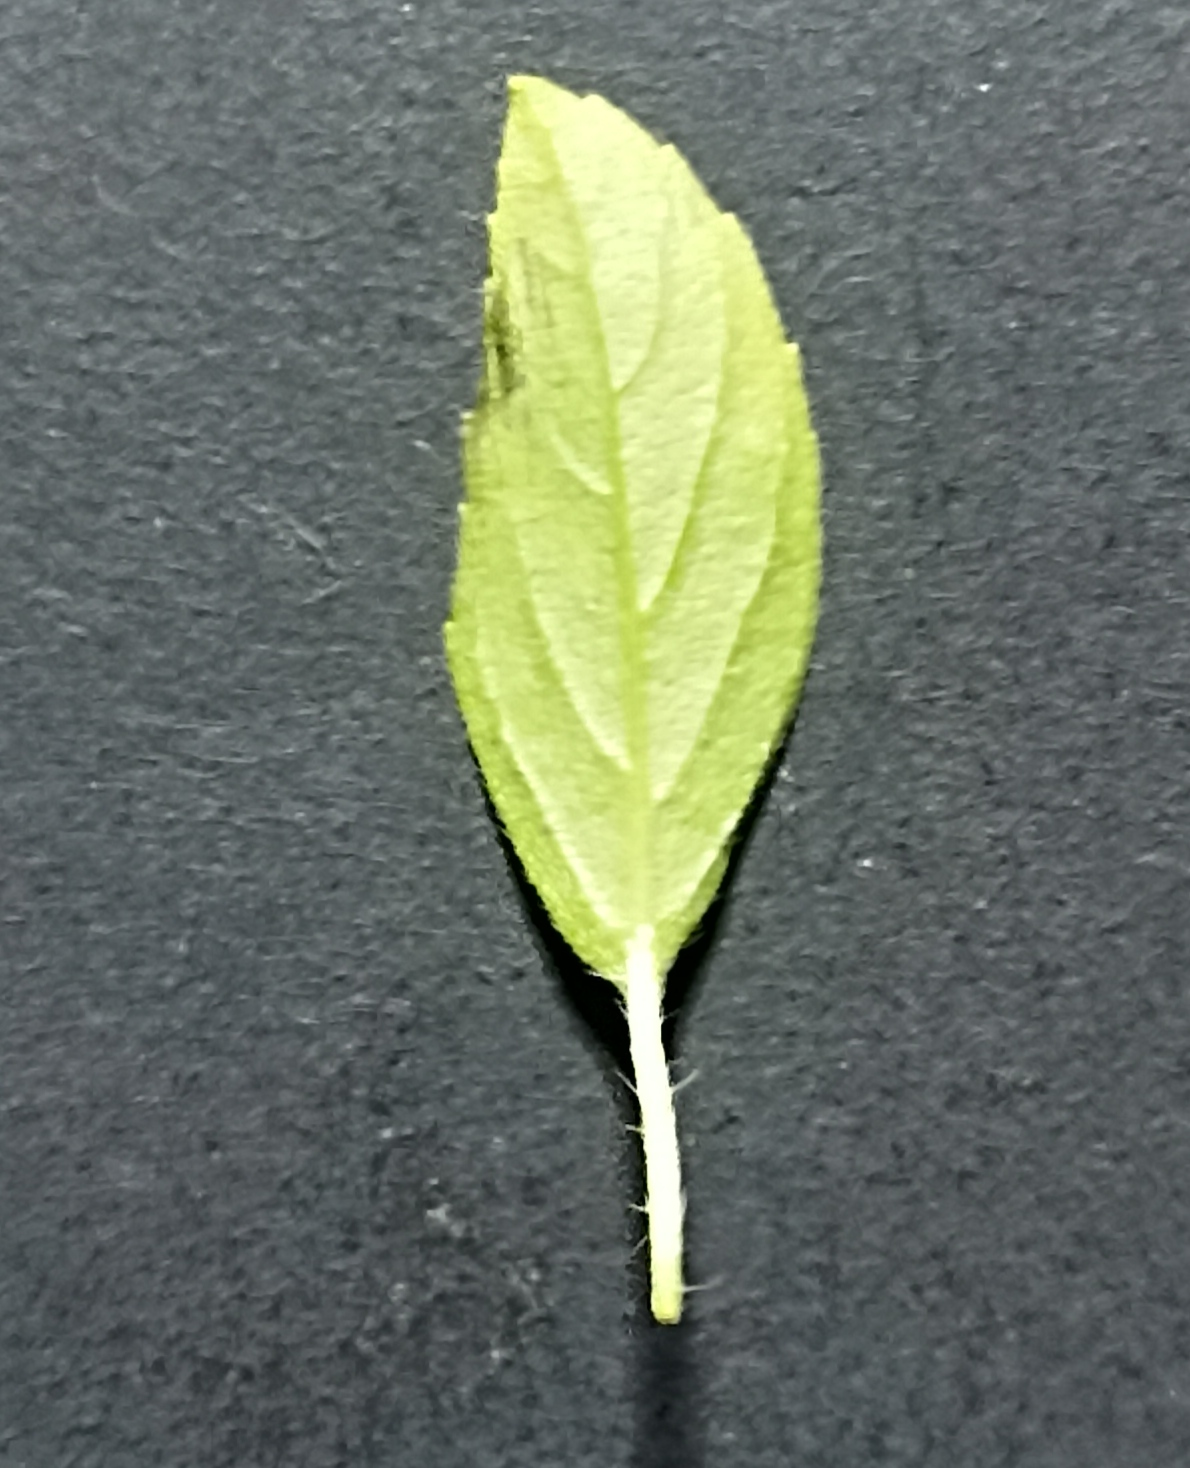Healthy: (423, 53, 843, 997)
